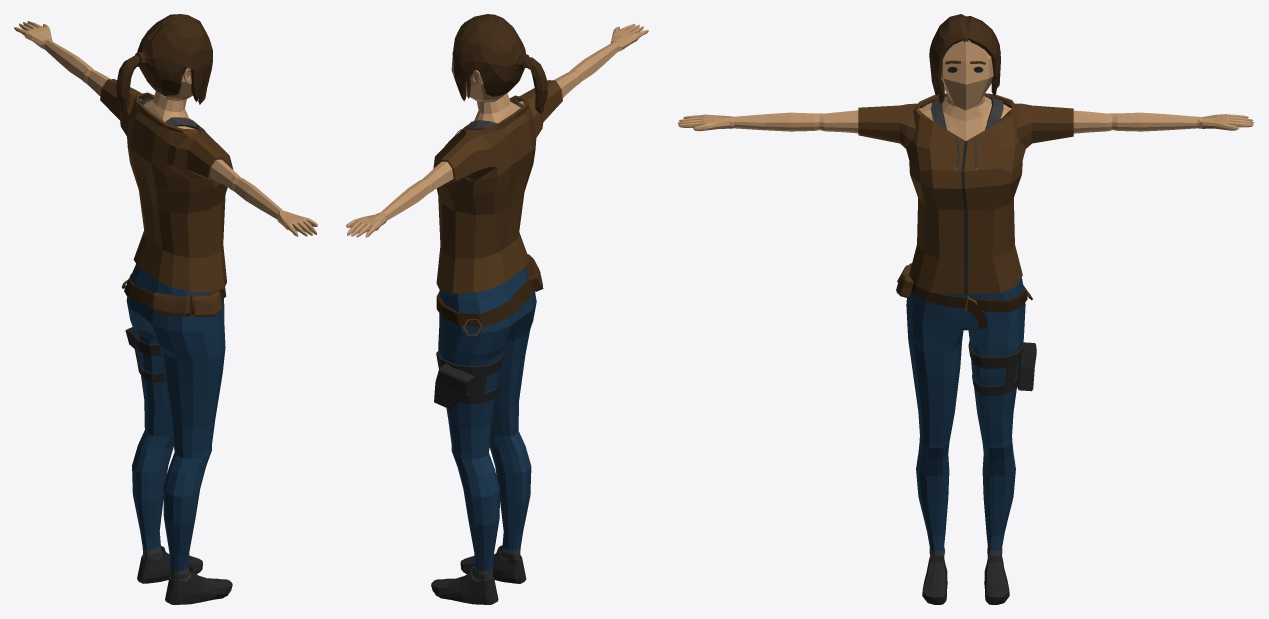
The model's file is SurvivorFemale.fbx.
3 views of the same model, side by side, from view 1: azimuth 30°, elevation 25°; view 2: azimuth 150°, elevation 25°; view 3: azimuth 270°, elevation 25° (orthographic).
Visible parts, largest first — view 1: Body, HoodyDetail, Hair, Shoes, Bag2, Holster, Bag1, Belt; view 2: Body, HoodyDetail, Hair, Shoes, Holster, Belt; view 3: Body, HoodyDetail, Hair, Shoes, Holster, Belt.
Boxes of the visible parts, x1,y1,x2,y2 form: Body: (14, 21, 317, 581); HoodyDetail: (100, 79, 233, 292); Hair: (116, 14, 212, 113); Shoes: (137, 546, 232, 604); Bag2: (151, 292, 191, 316); Holster: (125, 327, 165, 383); Bag1: (189, 290, 222, 317); Belt: (124, 274, 226, 307); Body: (346, 23, 648, 581); HoodyDetail: (433, 80, 562, 293); Hair: (453, 14, 547, 113); Shoes: (431, 545, 526, 604); Holster: (434, 351, 503, 409); Belt: (436, 276, 534, 326); Body: (678, 40, 1253, 559); HoodyDetail: (858, 93, 1073, 294); Hair: (929, 14, 1000, 103); Shoes: (922, 555, 1009, 604); Holster: (968, 341, 1036, 396); Belt: (911, 283, 1027, 329).
Size of the model in its own units: 30.69 by 164 by 150.
Materials: 1 (1 with a texture image).
